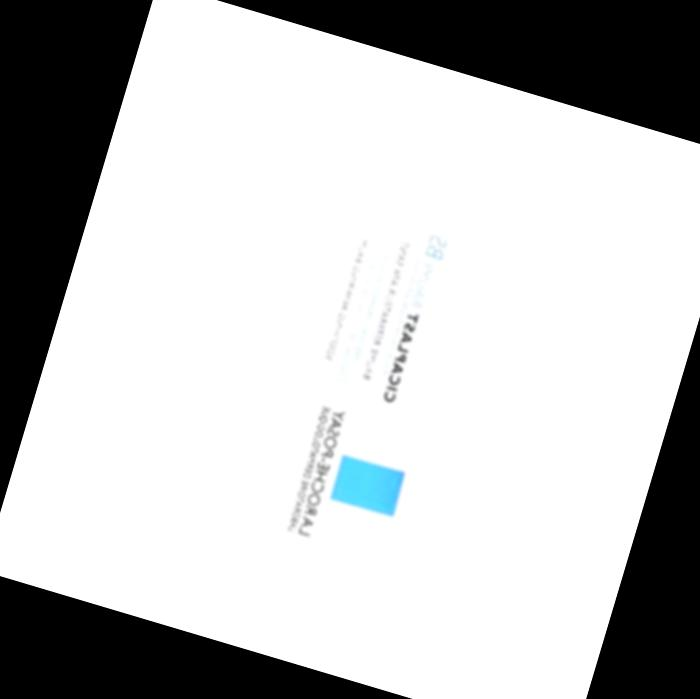cosmetic: (190, 79, 554, 638)
